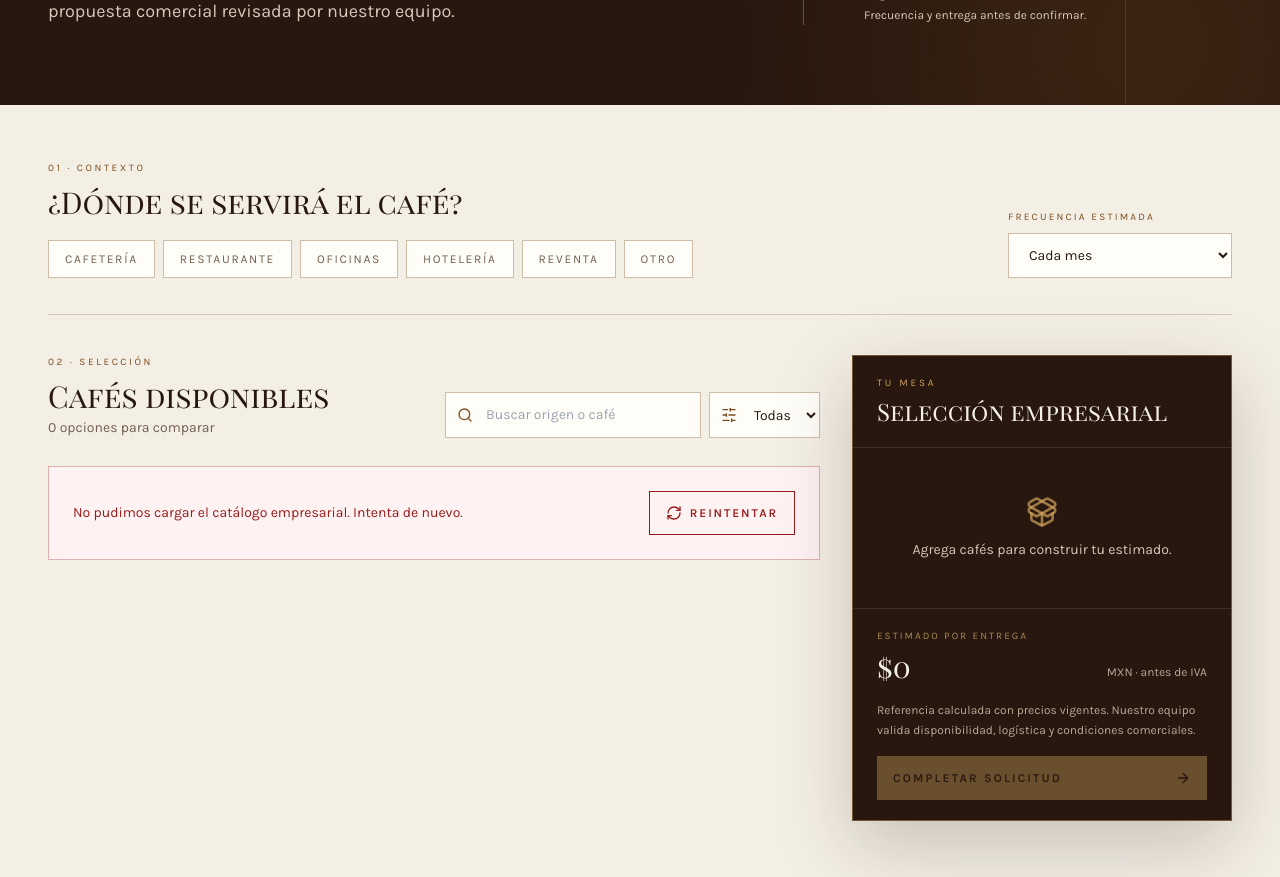
B2BCatalog › permite reintentar la carga del catálogo después de un fallo
This screenshot has width=1280, height=877.
(page scrolled)
Check: the text "No pudimos cargar el catálogo empresarial. Intenta de nuevo." is shown, box 73,503 -> 463,523
Click the button "Reintentar" at (722, 513), box 649,491 -> 795,535
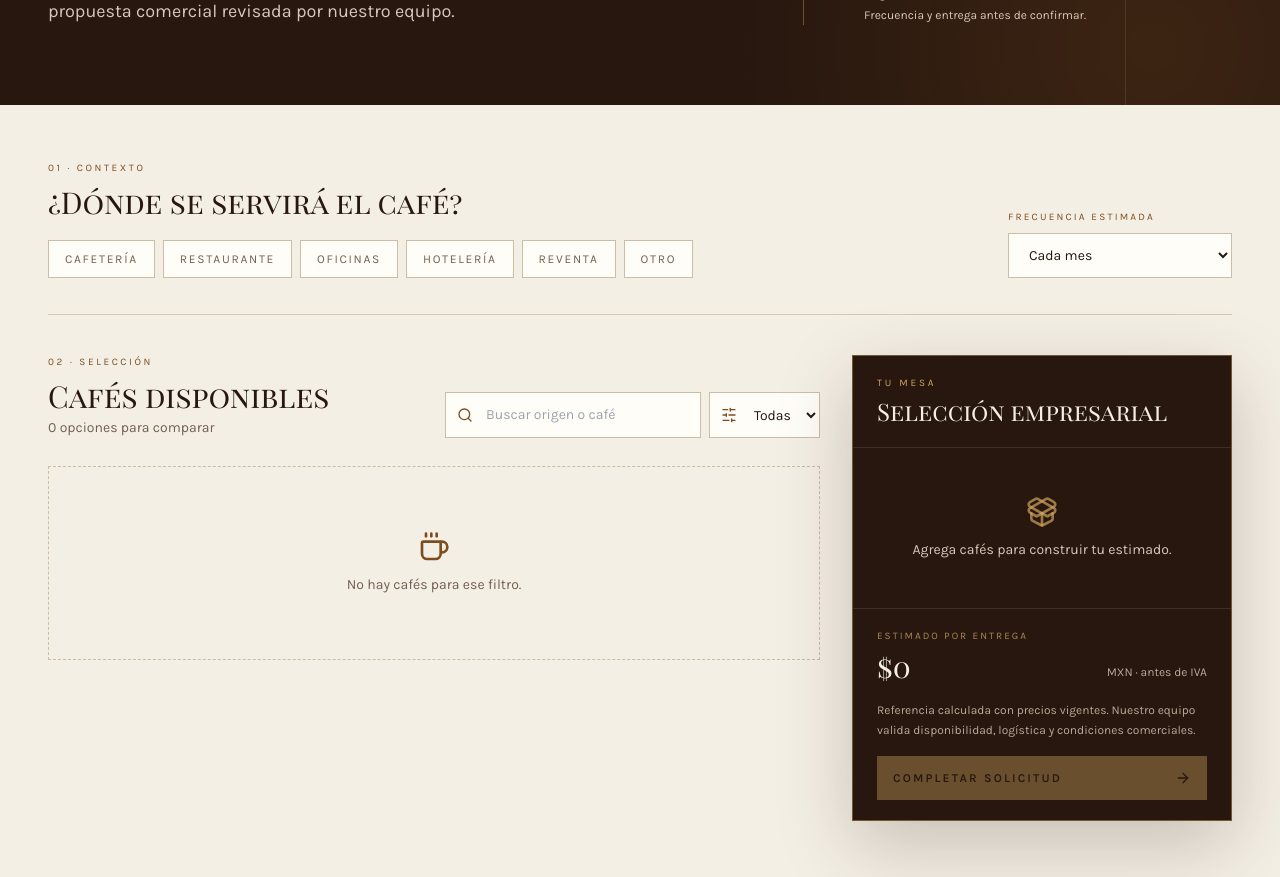
Check: the text "No hay cafés para ese filtro." is shown, box 347,576 -> 521,593
